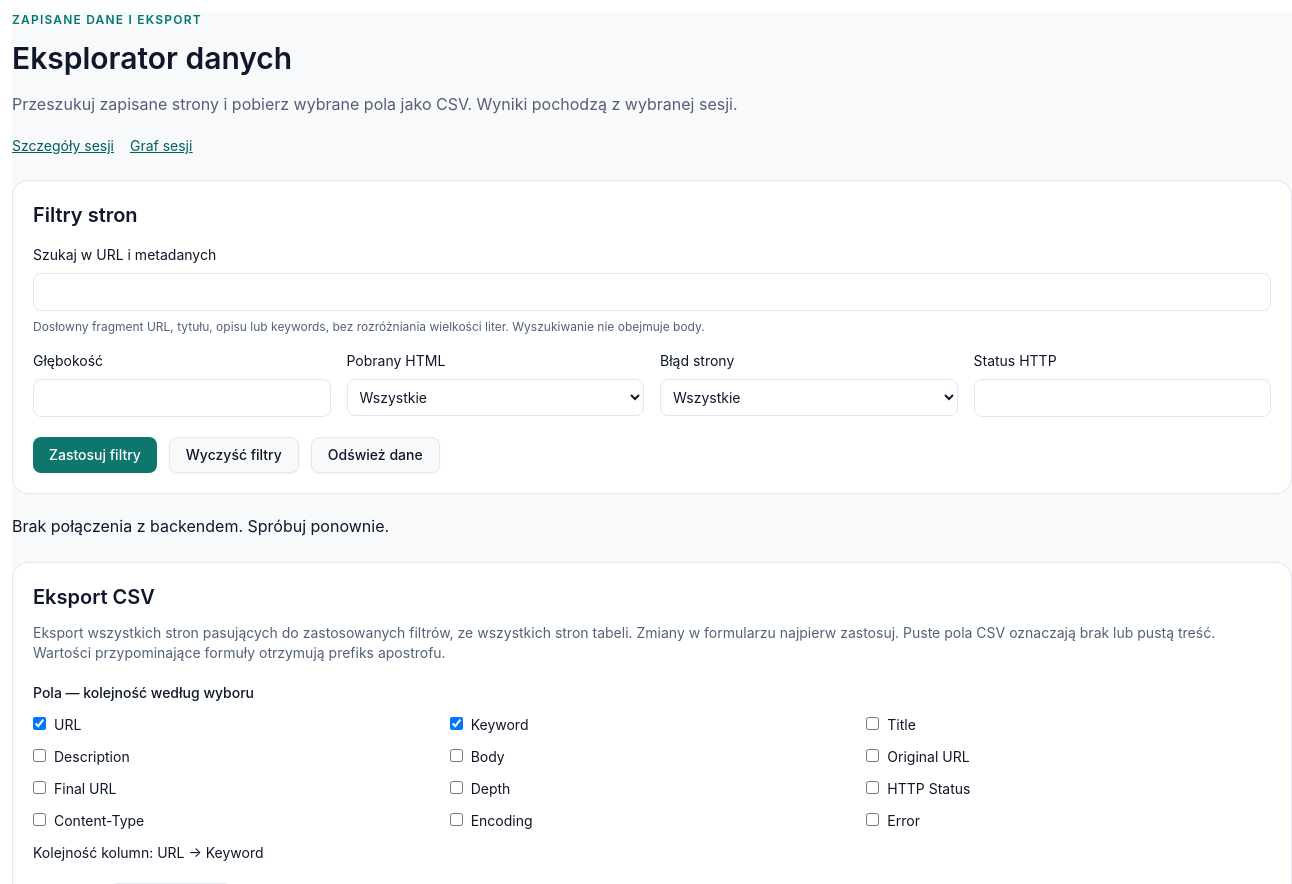
Test: data explorer › empty data and retry are honest
Expected: the message "Brak połączenia z backendem. Spróbuj ponownie." is shown, [12,516,389,536]
What coordinates should you click on to do the following:
click the button "Odśwież dane"
I would click on:
 (375, 455)
Its box is [311,437,440,473].
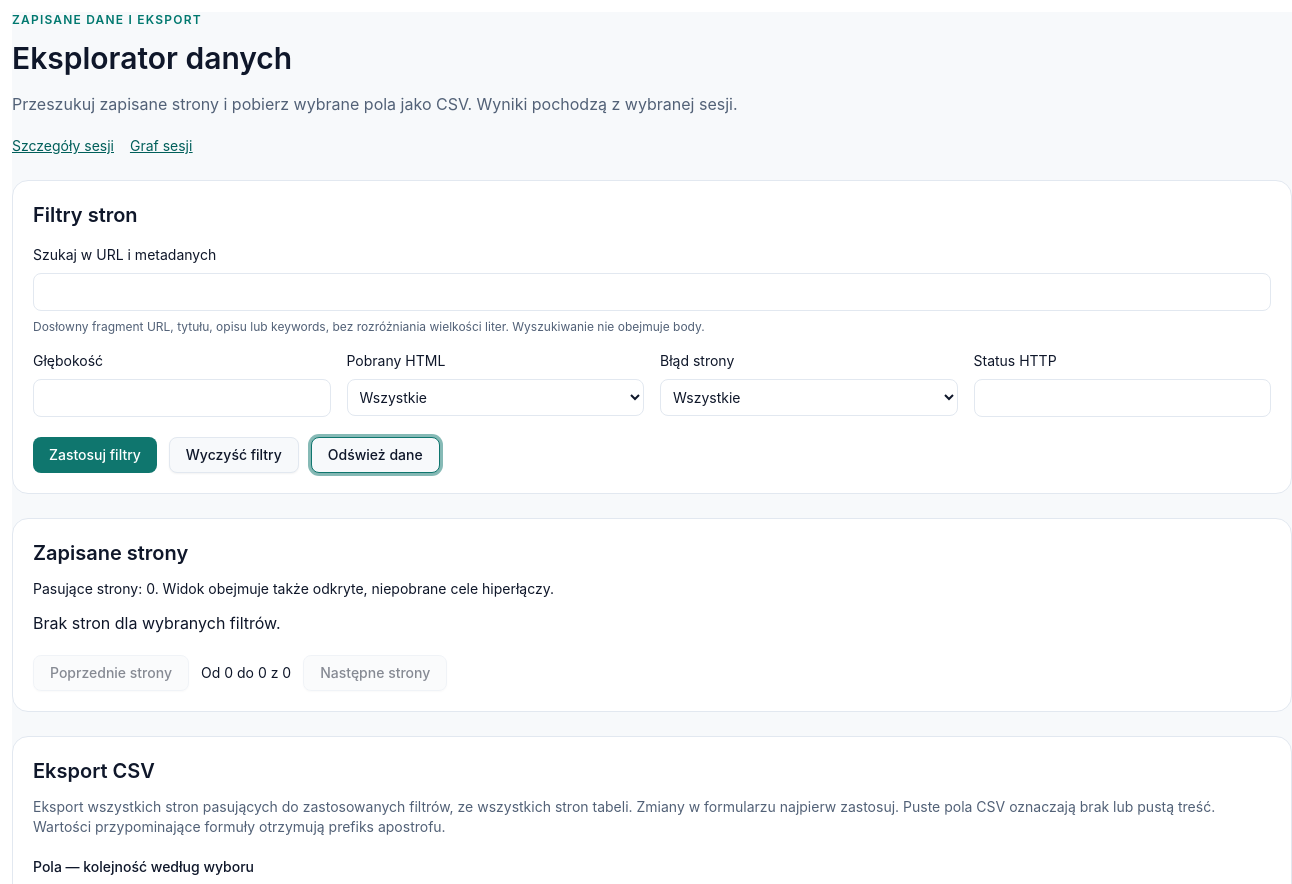
Result: the text "Brak stron dla wybranych filtrów." is shown at [33,613,281,633]
Result: the button "Następne strony" is disabled at [303,655,447,691]
